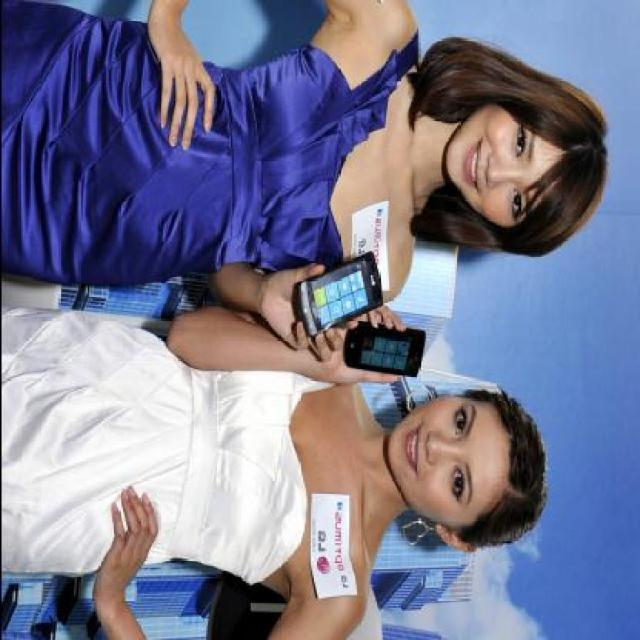phone: (292, 240, 396, 338), (343, 319, 426, 381)
